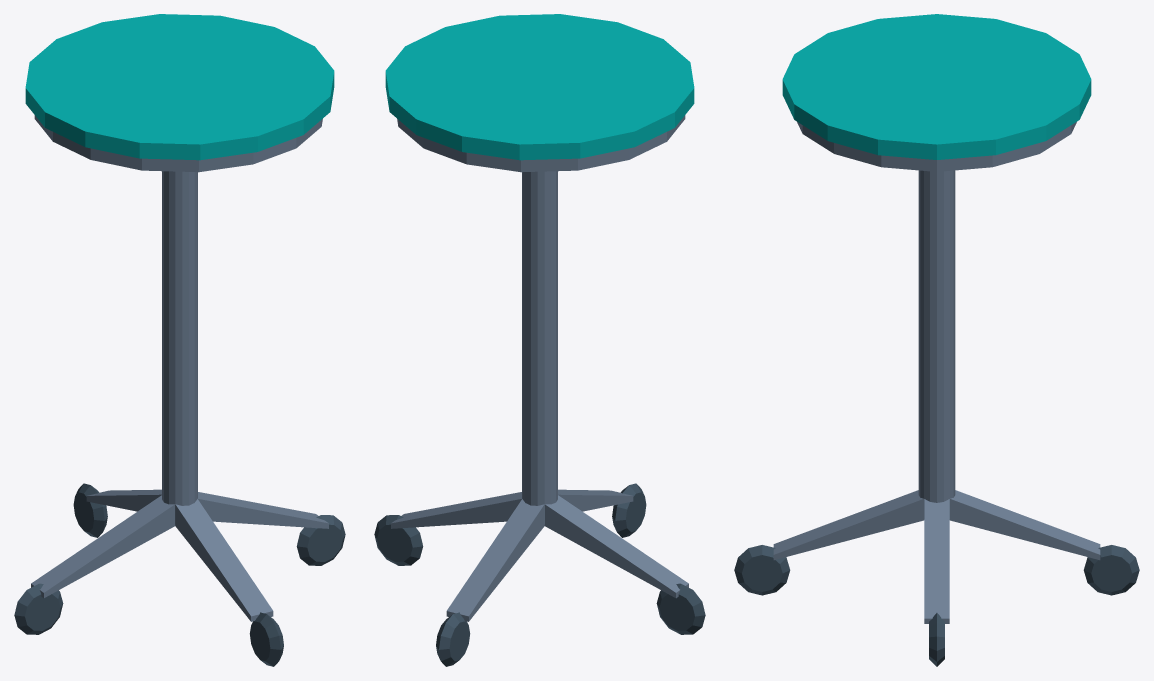
Rendered from 5 chair.fbx.
3 views of the same model, side by side, from view 1: azimuth 30°, elevation 25°; view 2: azimuth 150°, elevation 25°; view 3: azimuth 270°, elevation 25° (orthographic).
Visible parts, largest first — view 1: 5 chair; view 2: 5 chair; view 3: 5 chair.
Part boxes in pixels (x1=…): 5 chair: x1=14, y1=14, x2=345, y2=666; 5 chair: x1=374, y1=14, x2=705, y2=666; 5 chair: x1=734, y1=14, x2=1139, y2=666.
Size of the model in its own units: 27.26 by 40.98 by 29.14.
